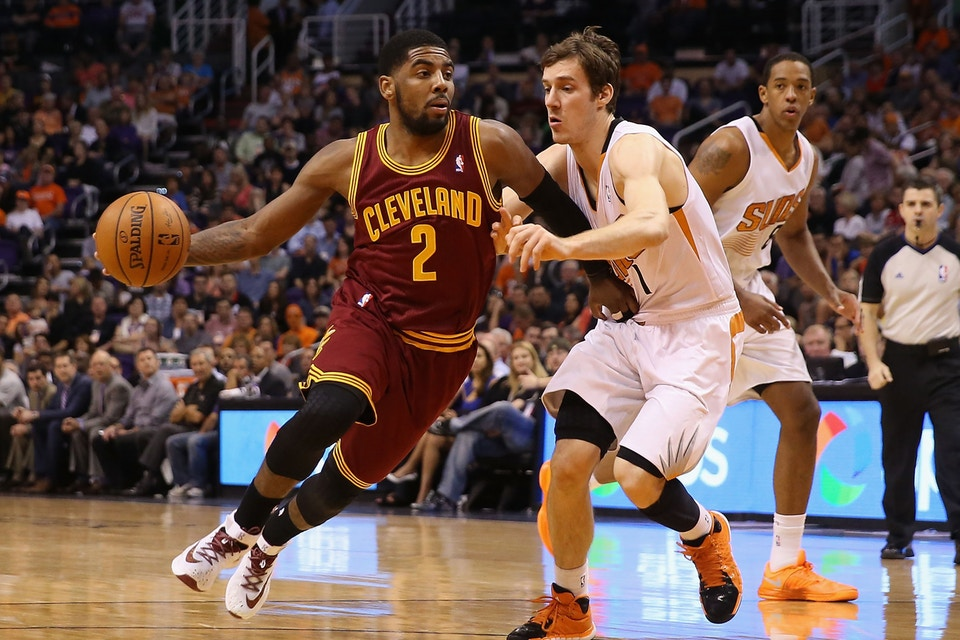basketball: (95, 190, 189, 286)
